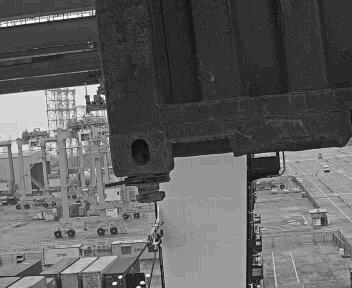twist_lock_1: (191, 157, 252, 200)
